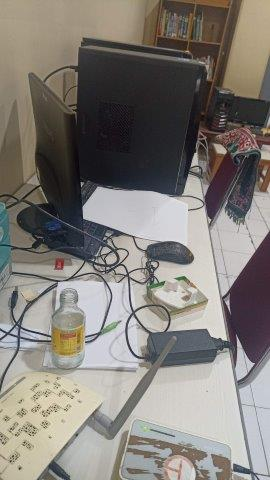botolkaca: (51, 290, 85, 370)
kertas: (49, 281, 141, 372), (82, 186, 190, 250)
